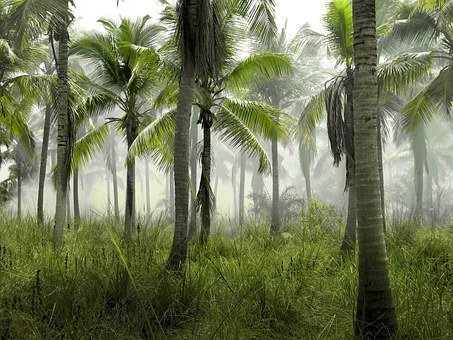forest: (9, 5, 453, 338)
tree: (98, 10, 270, 277), (298, 4, 428, 332)
